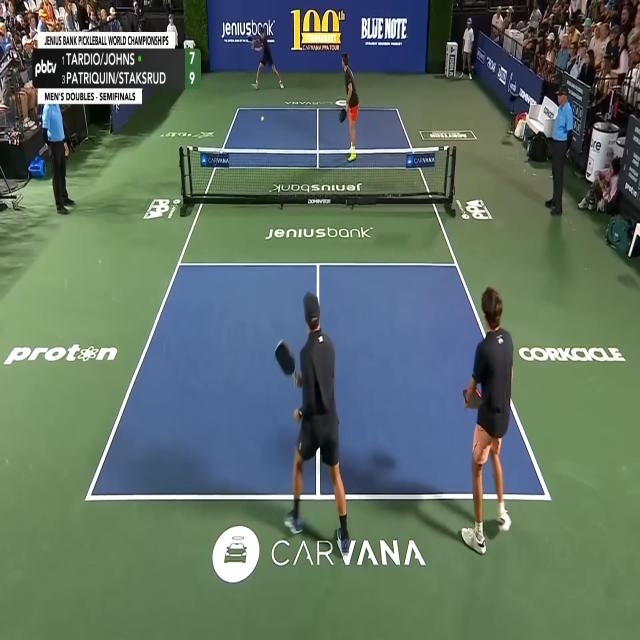ball: (261, 116, 264, 122)
